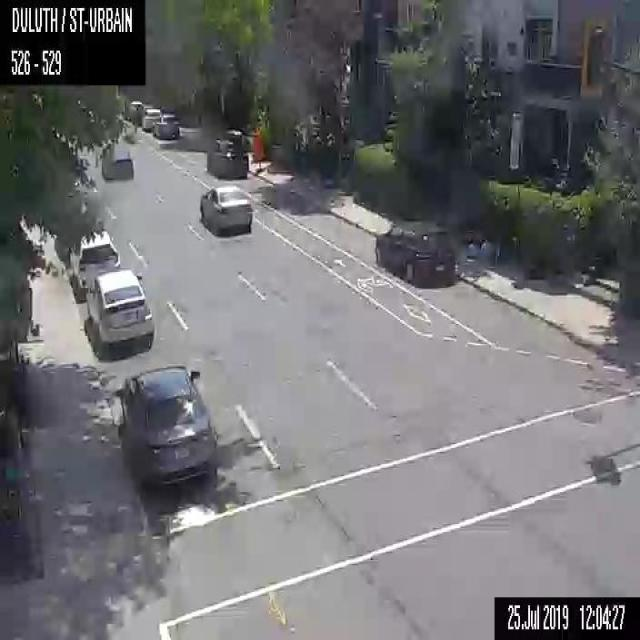construction: (253, 132, 261, 160)
vehicle: (113, 360, 220, 492), (84, 265, 154, 355), (374, 215, 454, 282), (67, 228, 120, 300), (198, 183, 254, 236), (205, 136, 248, 179), (100, 145, 134, 180), (153, 113, 178, 140), (140, 105, 162, 131)
